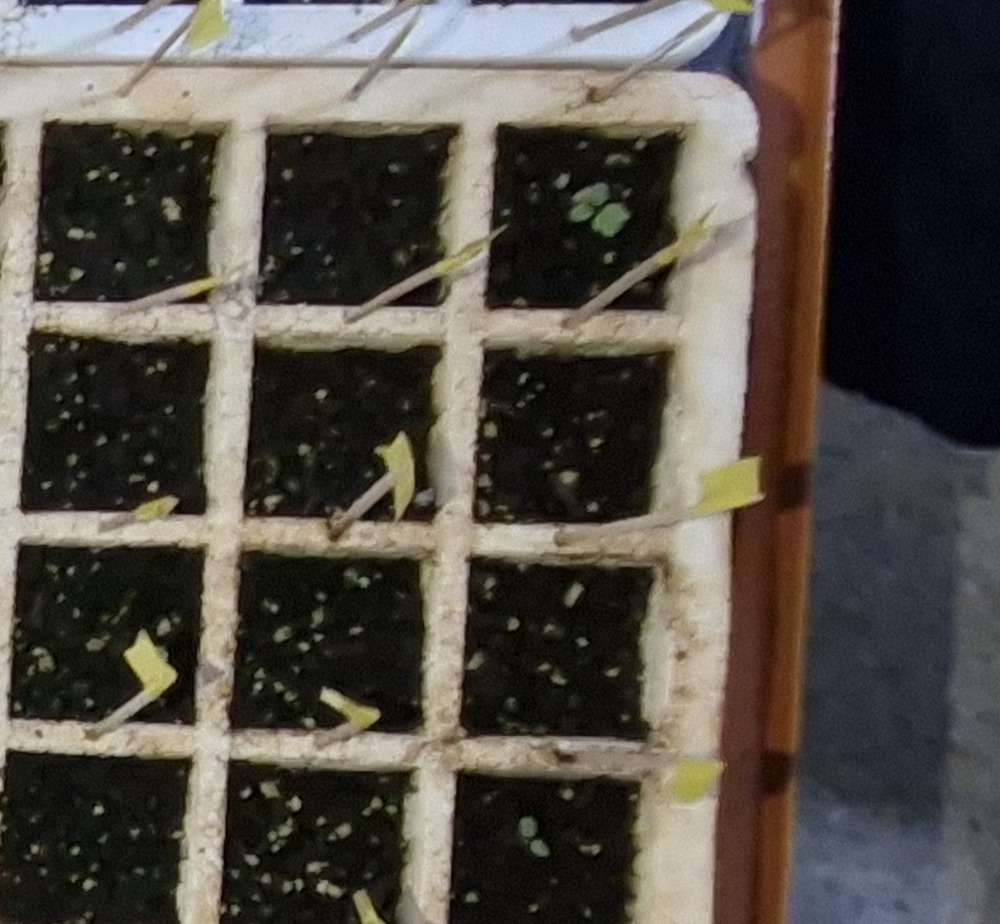Folha: (589, 203, 631, 236), (571, 185, 610, 206), (569, 201, 594, 221), (518, 818, 538, 838), (532, 841, 551, 858)
Germinacao: (570, 182, 627, 235), (518, 816, 553, 855)
